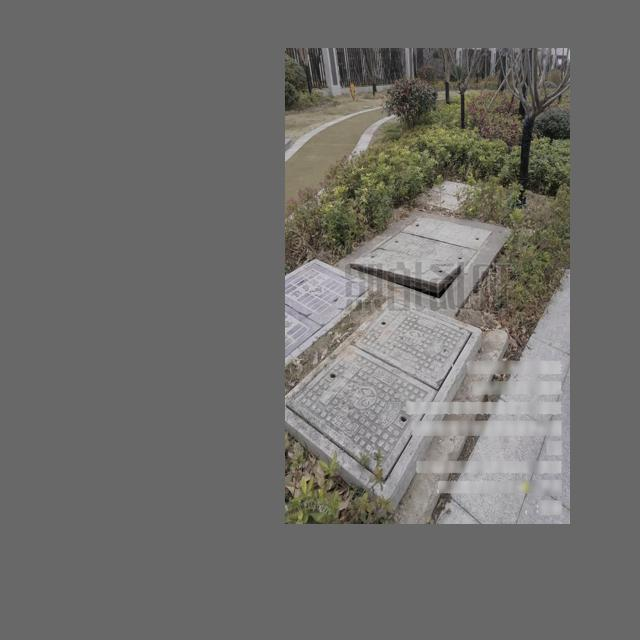good: (285, 294, 483, 510), (285, 258, 377, 366)
uncovered: (347, 213, 495, 302)
